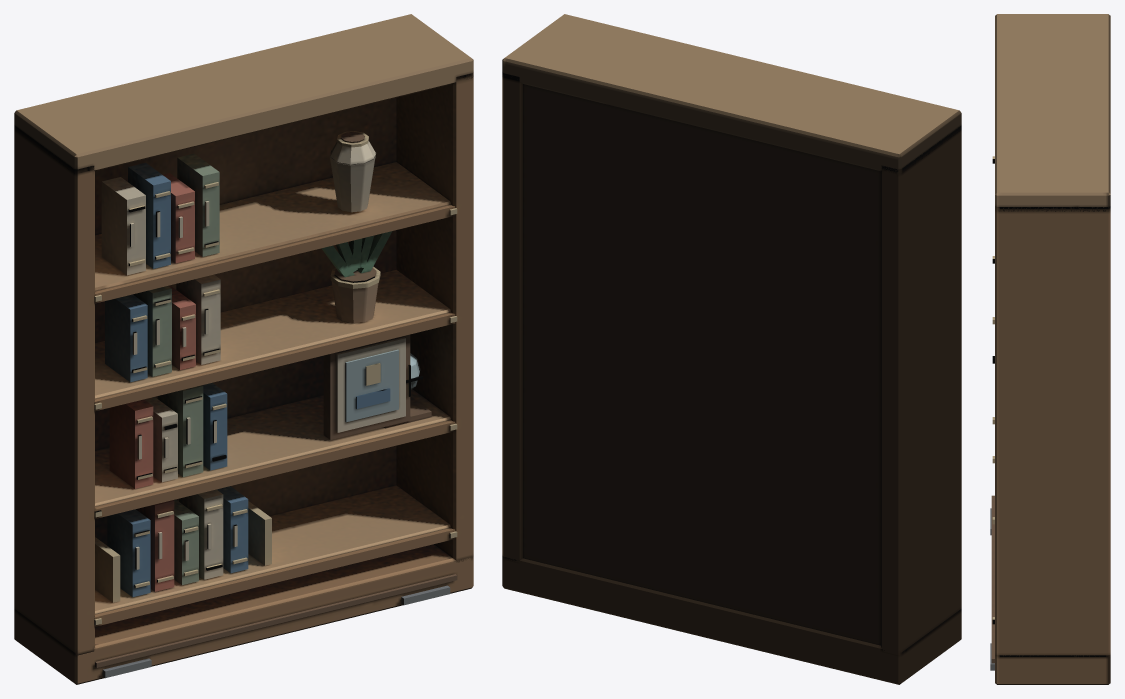
Rendered from 0-20261016-1900-ev053-r09-cfo-officedecor_baked.glb.
The picture shows the model from 3 angles, left to right: view 1: azimuth 30°, elevation 25°; view 2: azimuth 150°, elevation 25°; view 3: azimuth 270°, elevation 25°; orthographic projection. The views are drawn at different scales.
Parts seen in each view (by area): view 1: SW_Exec_OfficeDecor; view 2: SW_Exec_OfficeDecor; view 3: SW_Exec_OfficeDecor.
Part boxes in pixels (box(x1,y1,x2,y2)): SW_Exec_OfficeDecor: box(14, 14, 473, 684); SW_Exec_OfficeDecor: box(502, 14, 961, 684); SW_Exec_OfficeDecor: box(990, 14, 1110, 684).
Size of the model in its own units: 1.55 by 1.97 by 0.437.
1 material, 1 textured.
